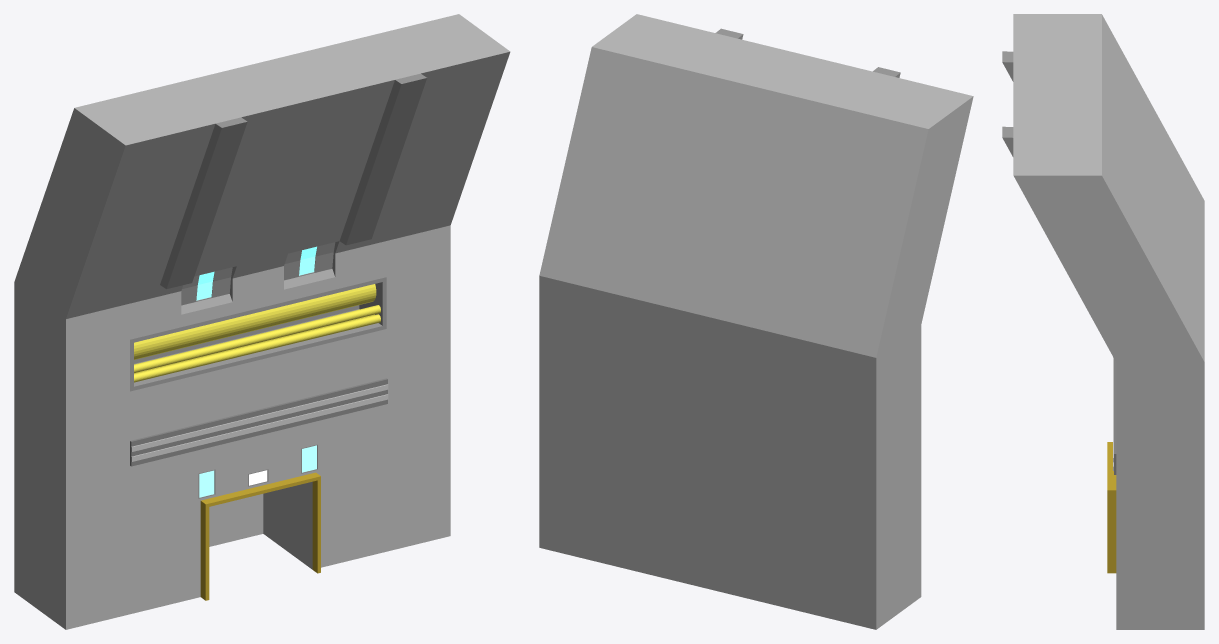
File: 1st hallway back wall.fbx
3 views of the same model, side by side, from view 1: azimuth 30°, elevation 25°; view 2: azimuth 150°, elevation 25°; view 3: azimuth 270°, elevation 25° (orthographic). The views are drawn at different scales.
Parts seen in each view (by area): view 1: Cube.001; view 2: Cube.001; view 3: Cube.001.
Boxes of the visible parts, bbox=[...] form: Cube.001: bbox=[14, 14, 510, 629]; Cube.001: bbox=[539, 14, 973, 629]; Cube.001: bbox=[1002, 14, 1204, 629].
Size of the model in its own units: 1296 by 1701 by 687.
